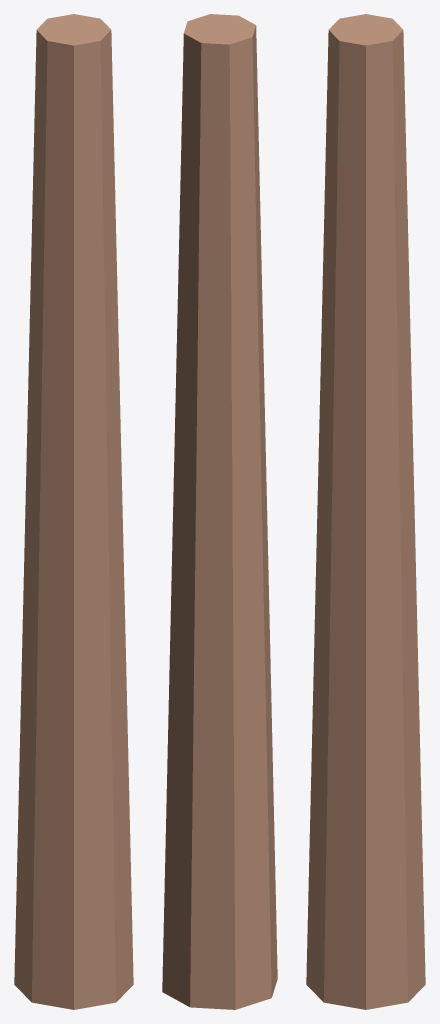
The model's file is wk_buck_lean_forearm_v01.glb.
3 renders of one model, left to right at view 1: azimuth 90°, elevation 25°; view 2: azimuth 150°, elevation 25°; view 3: azimuth 270°, elevation 25°, orthographic.
Visible parts, largest first — view 1: GEO_forearm; view 2: GEO_forearm; view 3: GEO_forearm.
Part boxes in pixels (x1,y1,x2,y2): GEO_forearm: [14, 14, 133, 1009]; GEO_forearm: [162, 14, 277, 1009]; GEO_forearm: [306, 14, 425, 1009].
Size of the model in its own units: 0.1133 by 1 by 0.1133.
